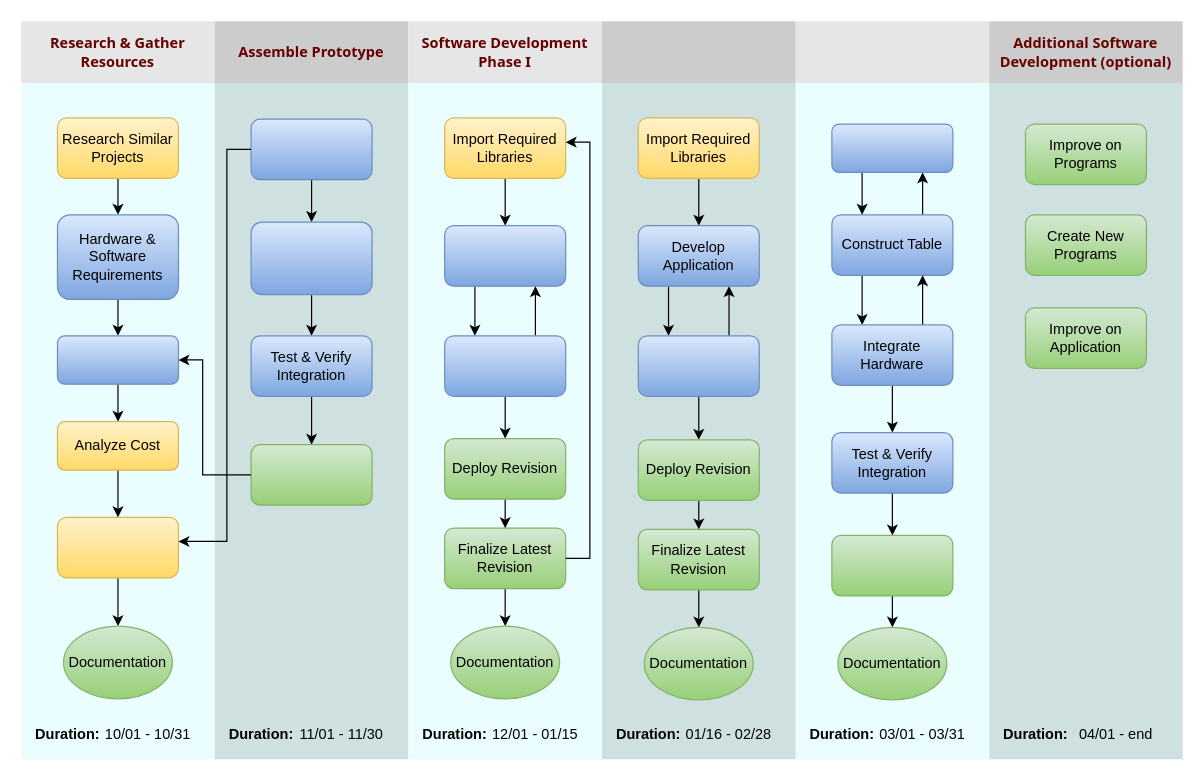
Image size: 1203x779. Some labels were removed from this diagram. Each missing label, with the box of its shape:
Assemble Final Product: (795, 21, 989, 759)
Develop Program: (443, 224, 566, 286)
Finalize Hardware Features: (250, 443, 372, 505)
Hardware Design: (56, 335, 178, 384)
Integrate Components: (250, 221, 372, 295)
Purchase Components: (56, 516, 178, 578)
Software Development Phase II: (601, 21, 795, 759)
Table Design: (831, 123, 953, 172)
Test & Debug Application: (637, 335, 759, 396)
Test & Debug Program: (443, 335, 566, 396)
Test & Verify Components: (250, 118, 372, 180)
Touch-up & Reorganization: (831, 534, 953, 596)
